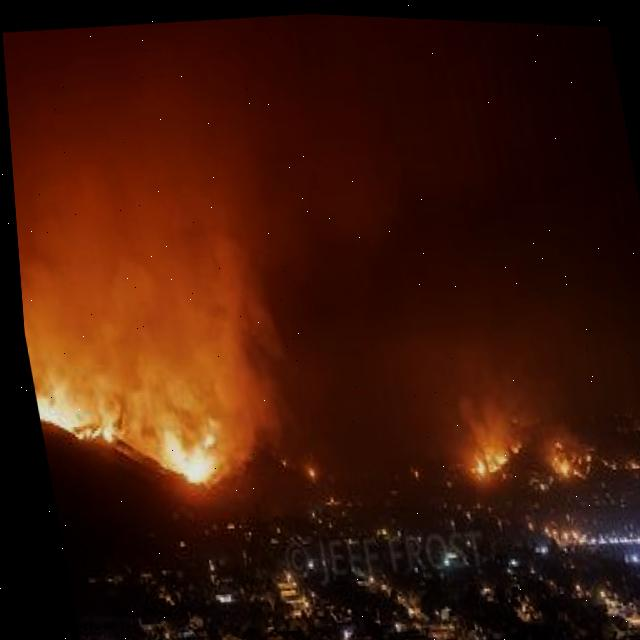fire: (28, 386, 86, 435), (158, 428, 205, 483)
smoke: (2, 11, 516, 460), (259, 151, 640, 487)
